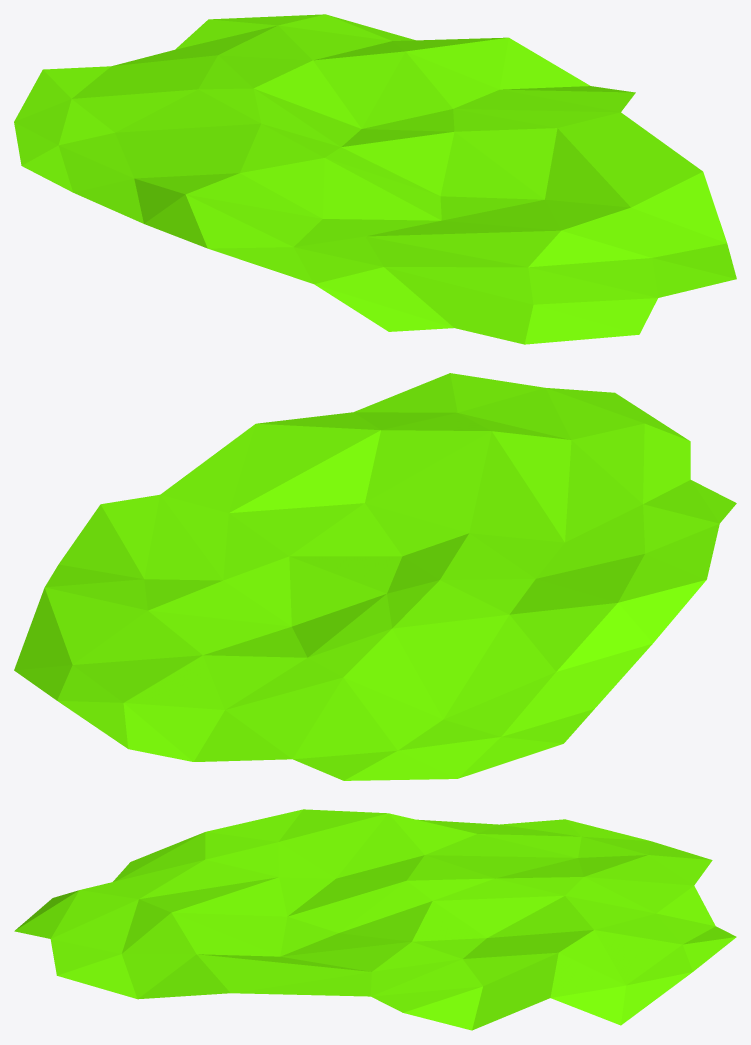
Rendered from nb_pond.FBX.
3 renders of one model, top to bottom at view 1: azimuth 30°, elevation 25°; view 2: azimuth 150°, elevation 25°; view 3: azimuth 270°, elevation 25°, orthographic. The views are drawn at different scales.
Visible parts, largest first — view 1: pond; view 2: pond; view 3: pond.
Boxes of the visible parts, bbox=[...] form: pond: bbox=[14, 14, 736, 344]; pond: bbox=[14, 373, 736, 780]; pond: bbox=[14, 809, 736, 1030].
Size of the model in its own units: 1873 by 200 by 2734.
